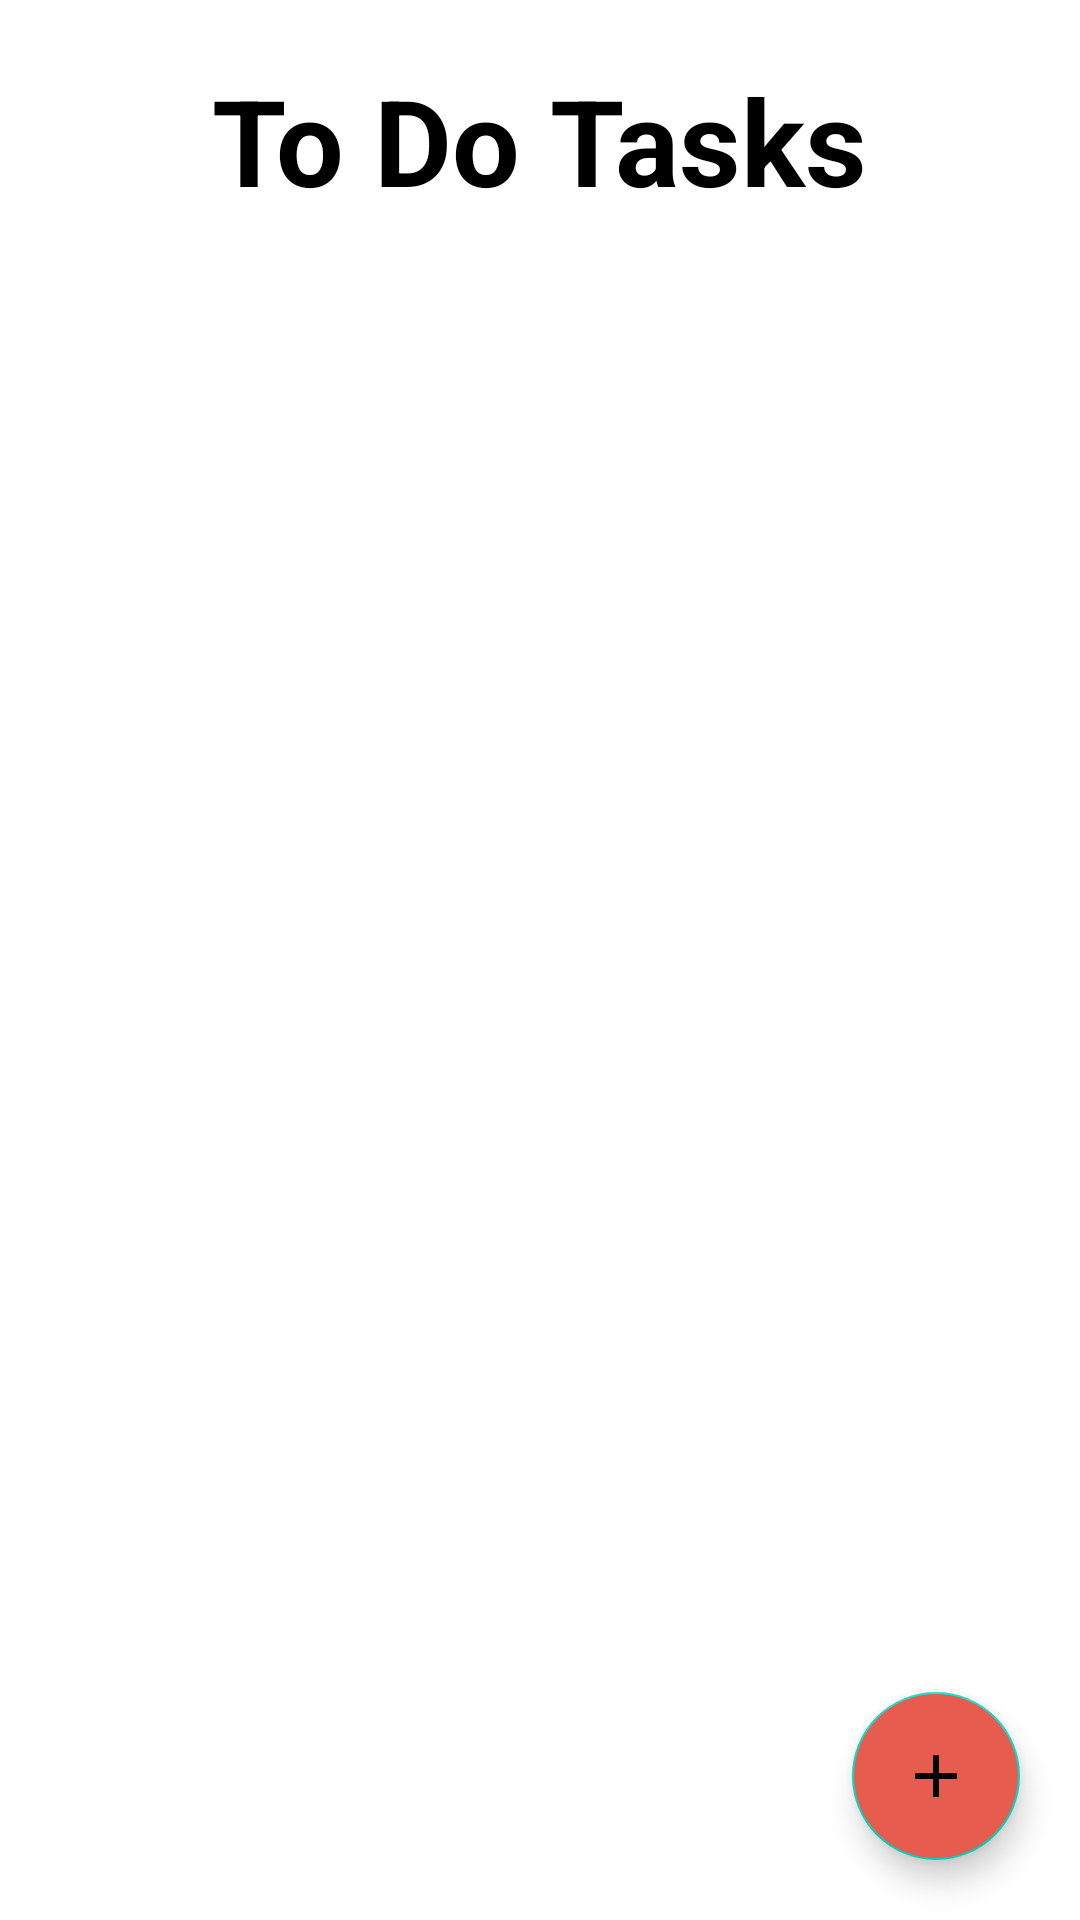

Screen size 1080 × 1920. Icon name, then its center in pixels as point (x, y):
add: point (936, 1776)
